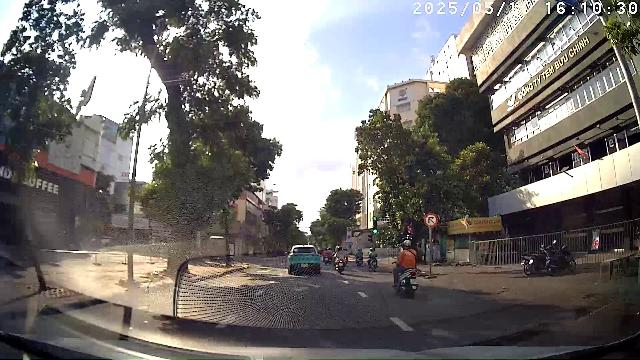123b-cam-re-phai: (424, 213, 438, 227)
